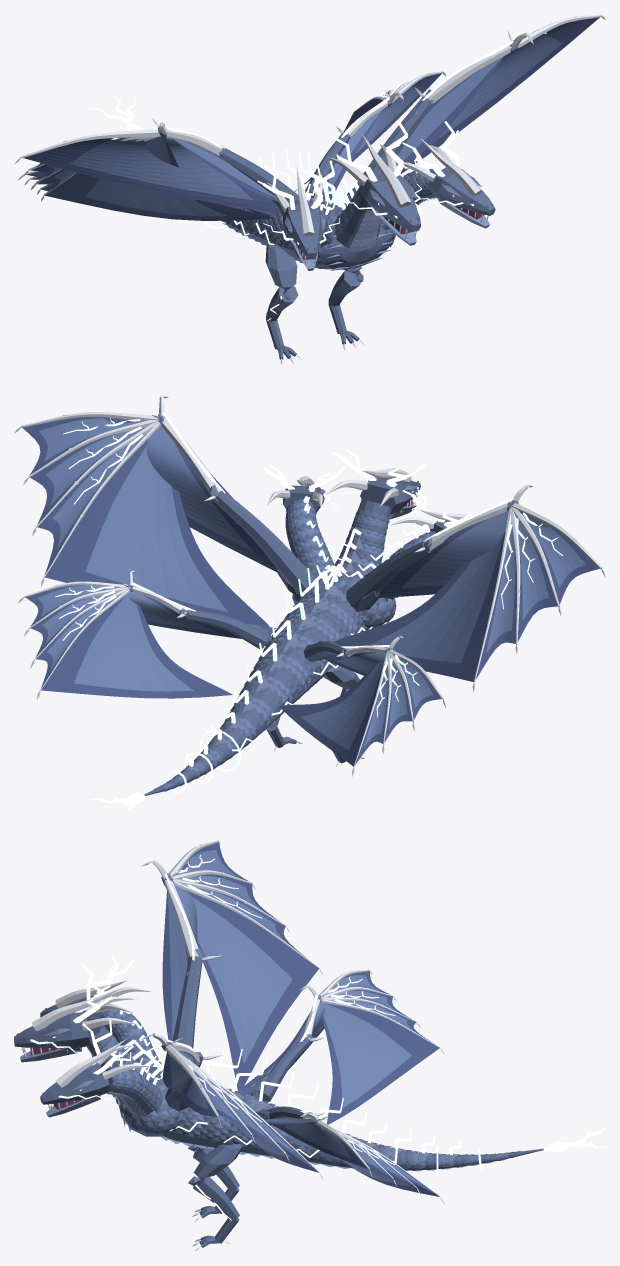
File: Wyverne_Tempete_v4.glb
The picture shows the model from 3 angles, top to bottom: view 1: azimuth 30°, elevation 25°; view 2: azimuth 150°, elevation 25°; view 3: azimuth 270°, elevation 25°; orthographic projection. The views are drawn at different scales.
Visible parts, largest first — view 1: Membrane, Body, Membrane2, Horns, Bolt, Bolt2, Belly, Scales, Plates; view 2: Membrane, Membrane2, Body, Horns, Bolt, Scales, Plates, Bolt2; view 3: Membrane, Body, Membrane2, Horns, Bolt, Scales, Bolt2, Belly, Plates.
Boxes of the visible parts, <box> form: Membrane: <box>46,35,562,216</box>; Body: <box>219,96,495,359</box>; Membrane2: <box>23,17,599,220</box>; Horns: <box>14,14,605,365</box>; Bolt: <box>111,32,546,320</box>; Bolt2: <box>90,95,460,209</box>; Belly: <box>222,197,489,270</box>; Scales: <box>221,172,426,253</box>; Plates: <box>158,40,518,299</box>; Membrane: <box>38,418,585,749</box>; Membrane2: <box>22,417,599,766</box>; Body: <box>144,477,450,795</box>; Horns: <box>14,395,605,776</box>; Bolt: <box>55,412,562,793</box>; Scales: <box>160,502,429,790</box>; Plates: <box>128,413,518,770</box>; Bolt2: <box>90,449,473,811</box>; Membrane: <box>168,850,421,1186</box>; Body: <box>14,956,543,1247</box>; Membrane2: <box>162,842,439,1196</box>; Horns: <box>22,840,444,1251</box>; Bolt: <box>30,855,482,1220</box>; Scales: <box>93,1009,509,1170</box>; Bolt2: <box>73,955,605,1152</box>; Belly: <box>20,1046,506,1171</box>; Plates: <box>43,873,459,1186</box>.
Bounding box in the file's own units: 94.65 × 44.85 × 84.33.
